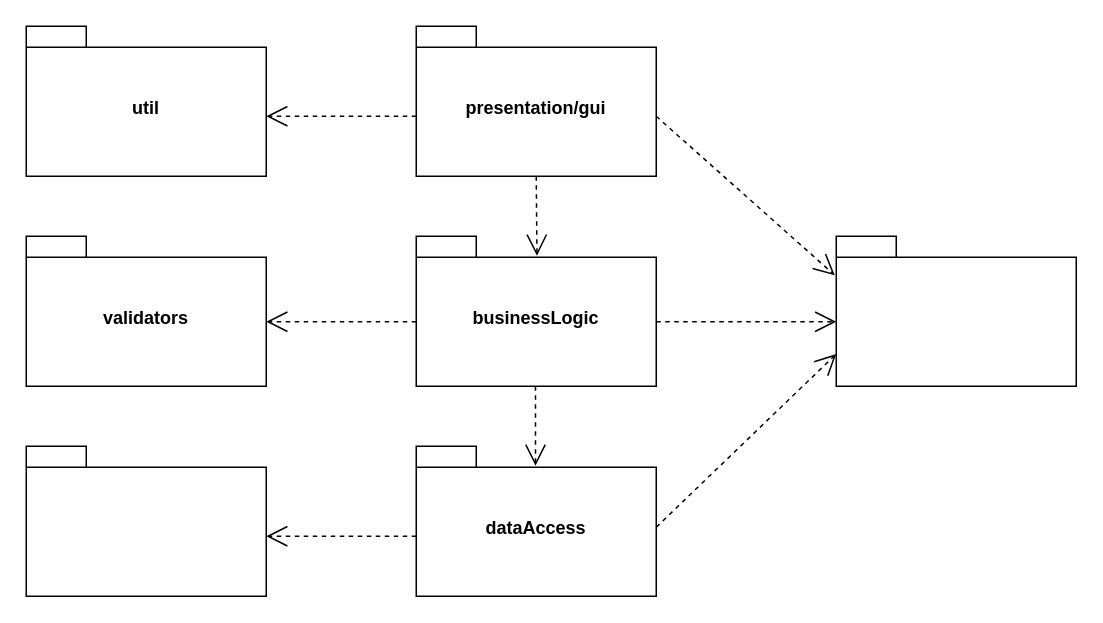
This 1103x623 diagram has some shape labels left out. The centre of each missing label's shape, as x and y in pixels:
connection: (x=145, y=520)
dataModel: (x=955, y=310)
